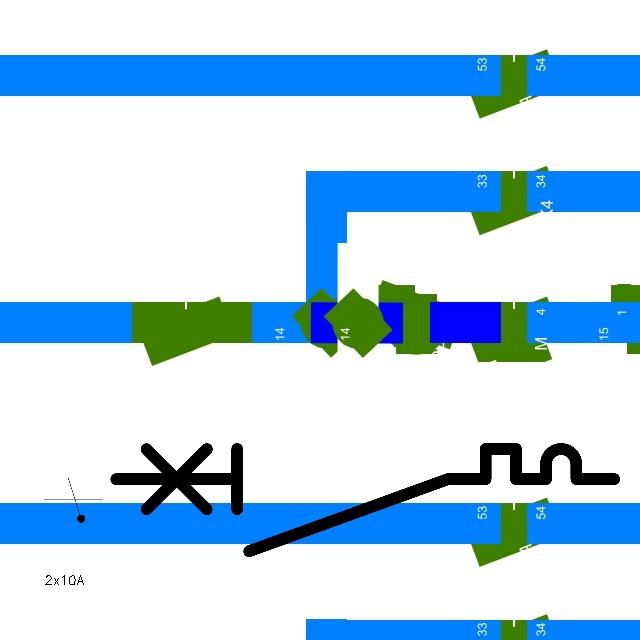interruptor_termomagnetico: (103, 436, 627, 564)
